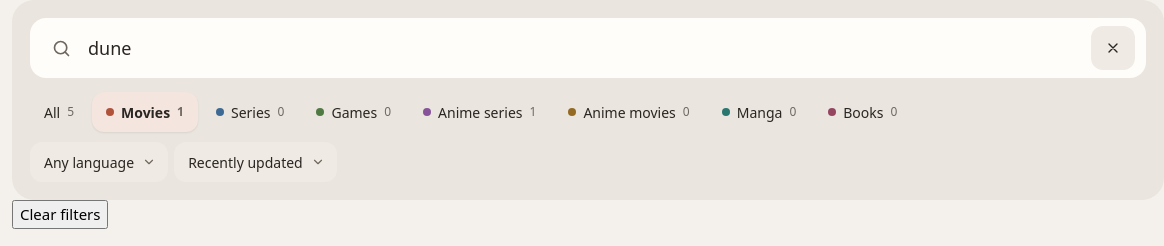
search › clears the search at once with the clear button
Expected: the search field labelled "Search reviews" holds "dune", 86,34 -> 1077,62
Step 1. Click the button named "Clear search" → point(1113, 48), box 1091,26 -> 1135,70
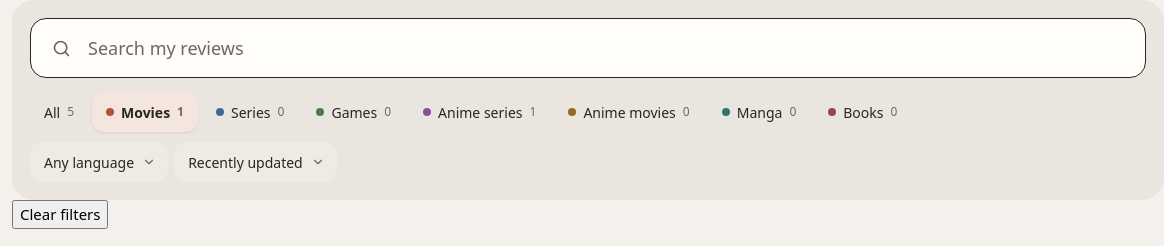
Expected: the search field labelled "Search reviews" is empty, 86,34 -> 1135,62
